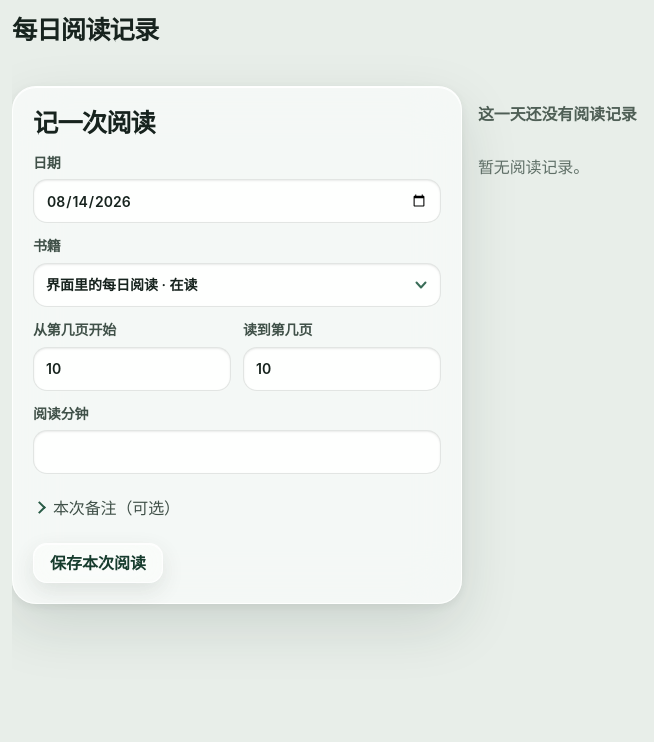
Scenario: DailyReadingPanel › locks the active submission after a same-purpose storage event
Replace the text in the number field labelled "读到第几页" with "30" at (342, 369), box [243,347,441,391]
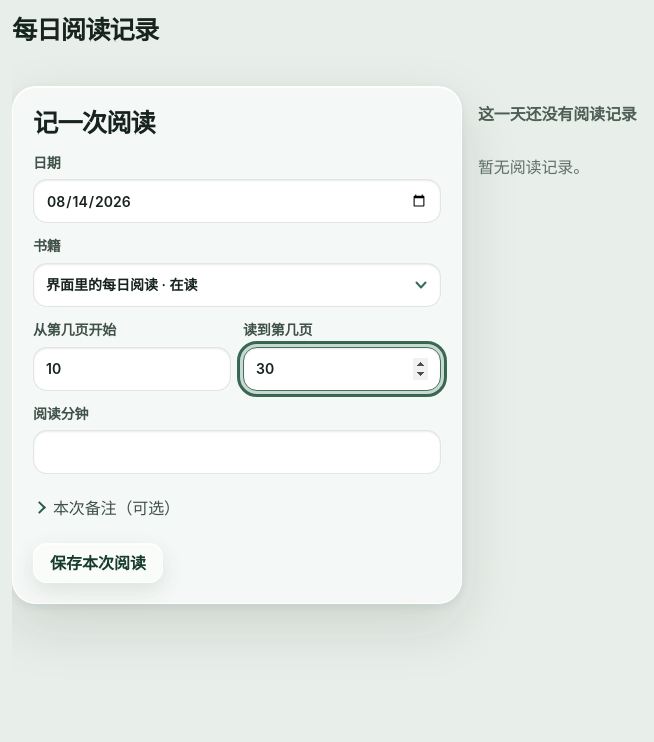
Type "35" into the number field labelled "阅读分钟" at (237, 452), box [33,430,441,474]
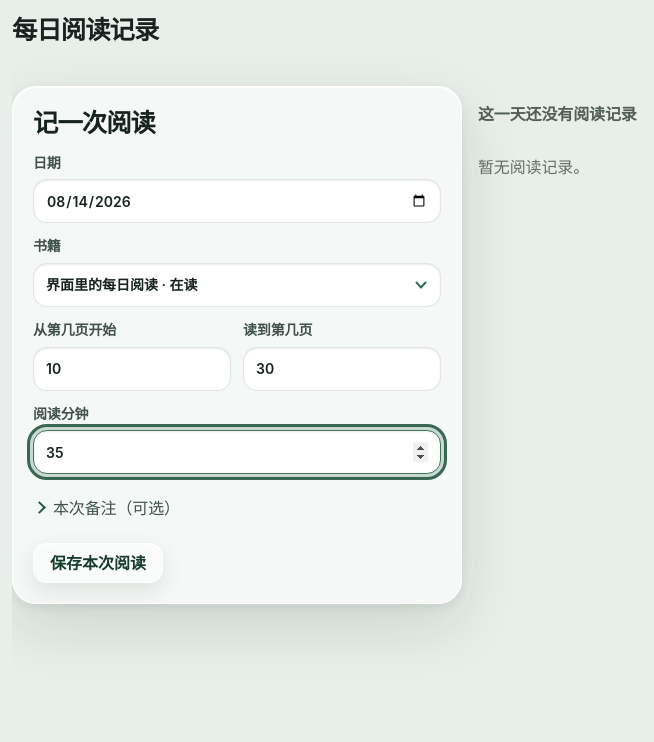
Click the button "保存本次阅读" at (98, 563), box [33,543,163,583]
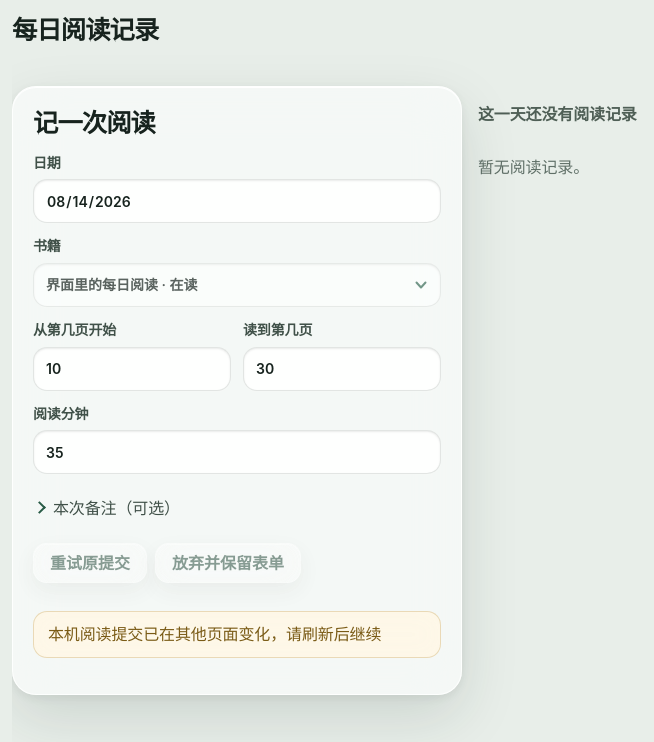
Expected: the number field labelled "读到第几页" is disabled, [243,347,441,391]
Now the button "重试原提交" is disabled, box [33,543,147,583]
Now the text "本机阅读提交已在其他页面变化，请刷新后继续" is shown, box [33,611,441,658]
